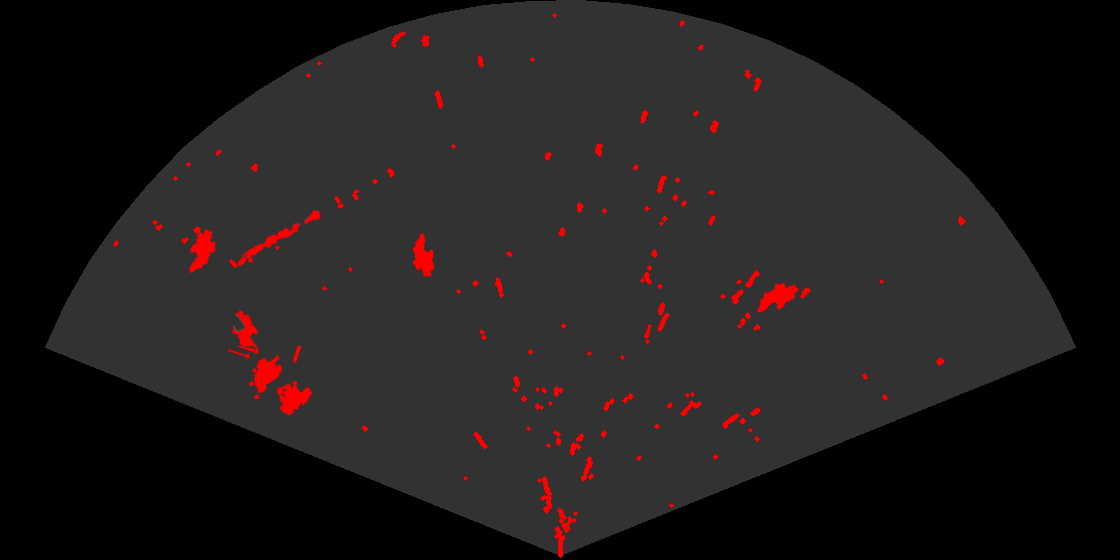AUV: (756, 281, 800, 314), (187, 228, 217, 275), (231, 309, 260, 356), (411, 231, 436, 279)
cage: (228, 346, 314, 416)
chain: (236, 209, 323, 268)
